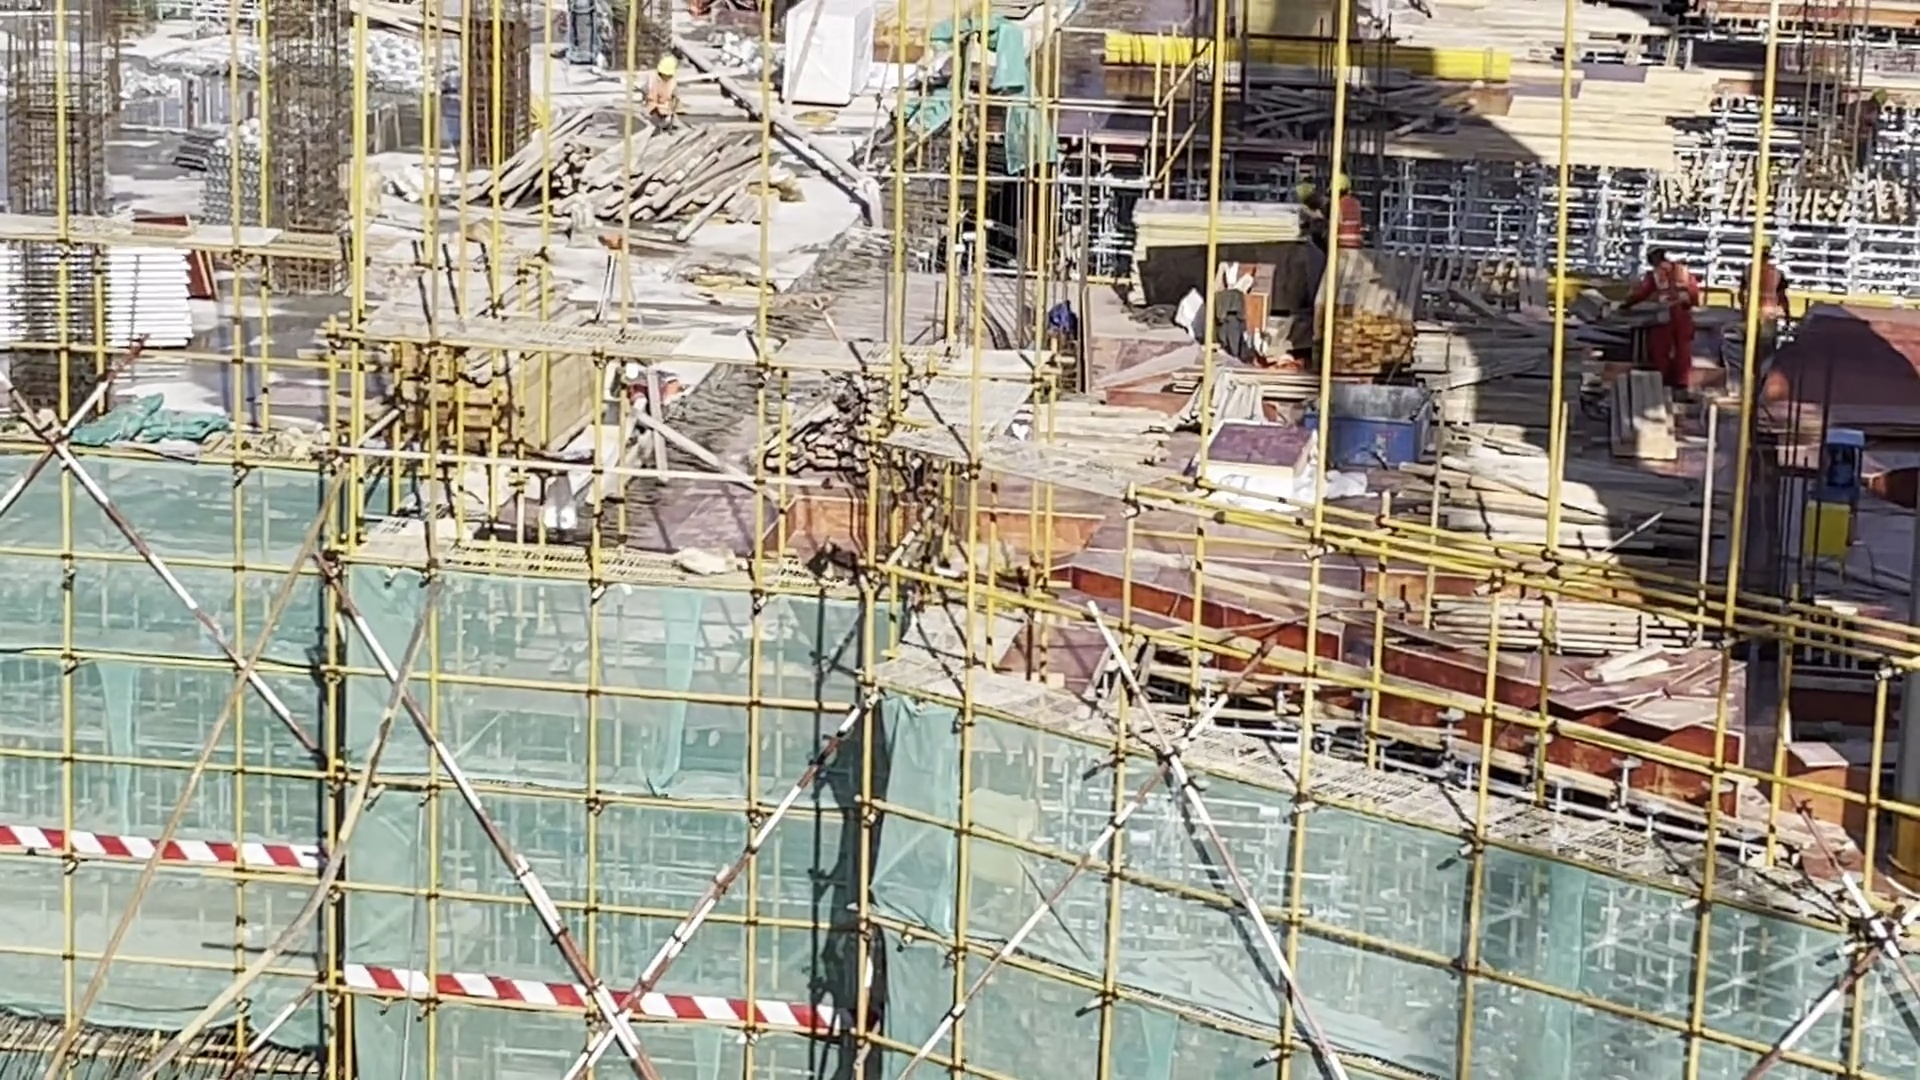board: (1584, 653, 1721, 746)
ebox: (1793, 503, 1846, 574)
helmet: (642, 52, 678, 83), (1327, 176, 1359, 207), (1643, 242, 1670, 273), (616, 362, 641, 387)
hopper: (1303, 361, 1438, 479)
person: (1622, 238, 1701, 390), (1737, 238, 1790, 352), (598, 364, 689, 419), (632, 46, 692, 128), (1312, 178, 1365, 251)
scaffold: (1, 244, 199, 355), (191, 130, 267, 231)
vest: (1745, 263, 1785, 331), (1647, 272, 1693, 326), (1333, 200, 1359, 244), (641, 78, 672, 111)
wood: (369, 285, 595, 483), (492, 113, 773, 257), (1422, 438, 1678, 559), (1410, 582, 1647, 661), (1297, 259, 1443, 378)
